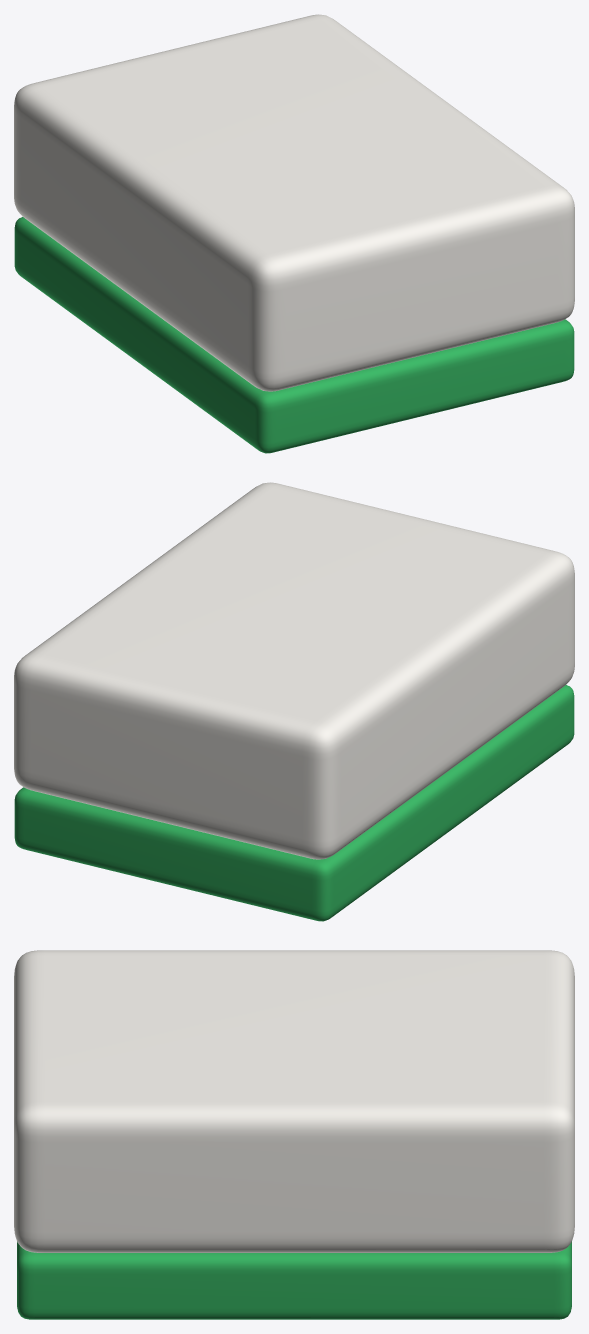
The model's file is mahjong_tile_body.glb.
3 views of the same model, one above another, from view 1: azimuth 30°, elevation 25°; view 2: azimuth 150°, elevation 25°; view 3: azimuth 270°, elevation 25° (orthographic). The views are drawn at different scales.
Visible parts, largest first — view 1: MahjongTileBody, MahjongTileBack; view 2: MahjongTileBody, MahjongTileBack; view 3: MahjongTileBody, MahjongTileBack.
Boxes of the visible parts, x1,y1,x2,y2 form: MahjongTileBody: (14, 14, 574, 391); MahjongTileBack: (14, 217, 574, 453); MahjongTileBody: (14, 482, 574, 859); MahjongTileBack: (14, 685, 574, 921); MahjongTileBody: (14, 950, 574, 1252); MahjongTileBack: (17, 1241, 571, 1319).
Bounding box in the file's own units: 0.42 × 0.24 × 0.58.
